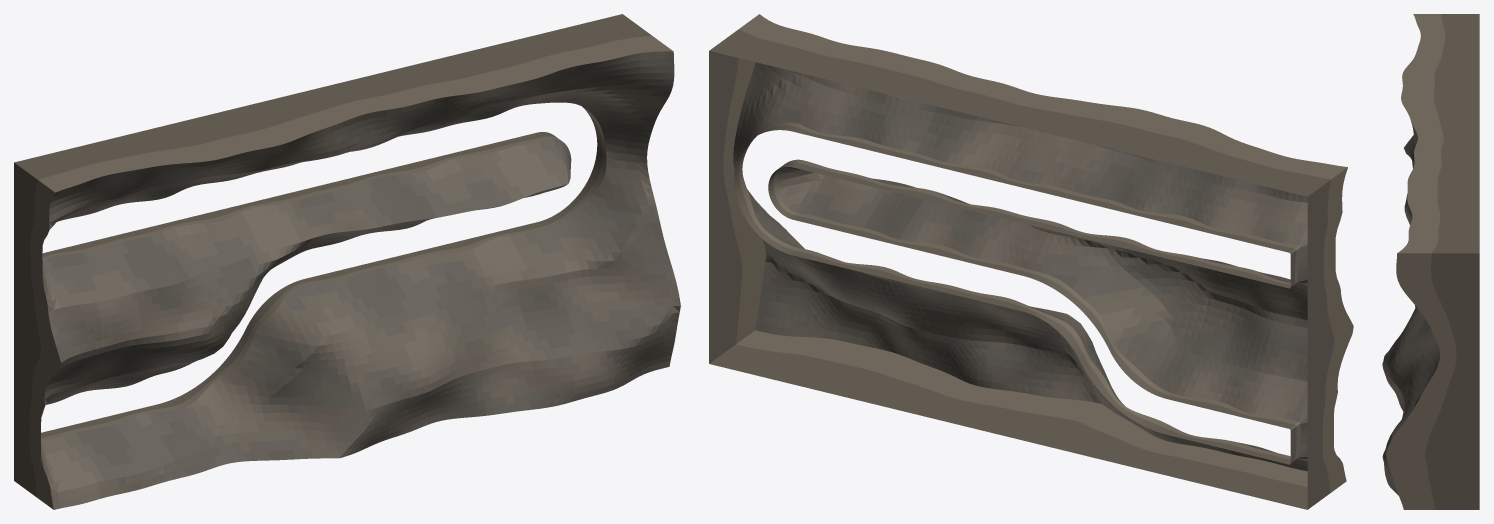
File: rock_massif.obj
3 renders of one model, left to right at view 1: azimuth 30°, elevation 25°; view 2: azimuth 150°, elevation 25°; view 3: azimuth 270°, elevation 25°, orthographic. The views are drawn at different scales.
Parts seen in each view (by area): view 1: rock_massif; view 2: rock_massif; view 3: rock_massif.
Part boxes in pixels (box(x1,y1,x2,y2)): rock_massif: box(14, 14, 680, 509); rock_massif: box(709, 14, 1353, 509); rock_massif: box(1382, 14, 1479, 509).
Size of the model in its own units: 128 by 64 by 21.97.
